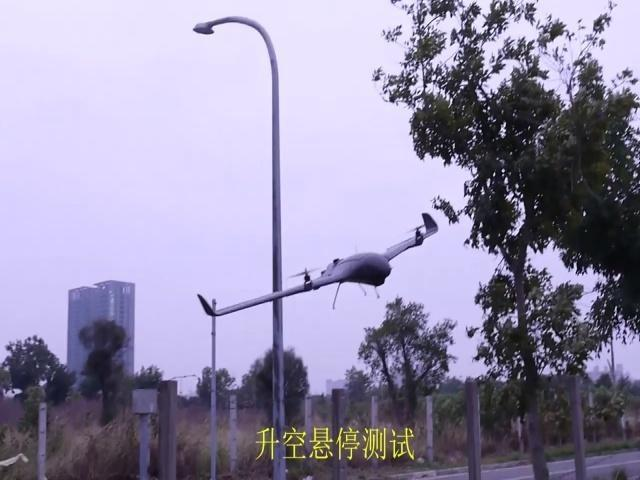Airplane: (196, 213, 439, 317)
